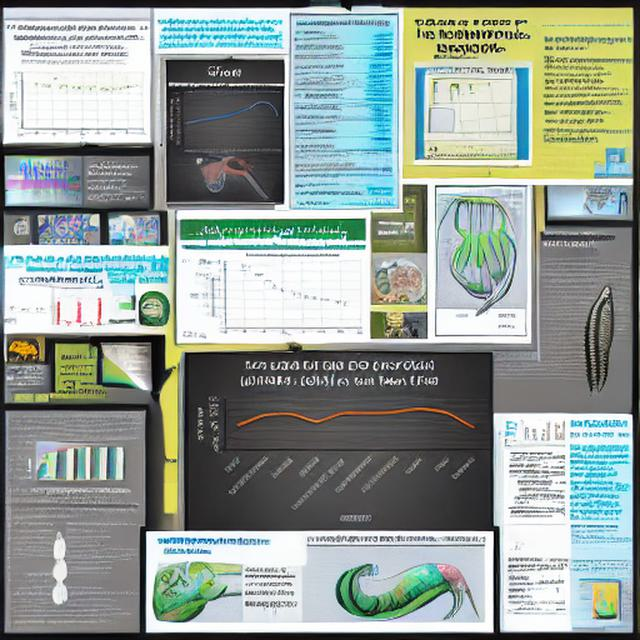Graph: (187, 353, 492, 531), (212, 251, 366, 341), (4, 57, 149, 142), (167, 88, 284, 157), (40, 287, 106, 330), (515, 412, 569, 442)
